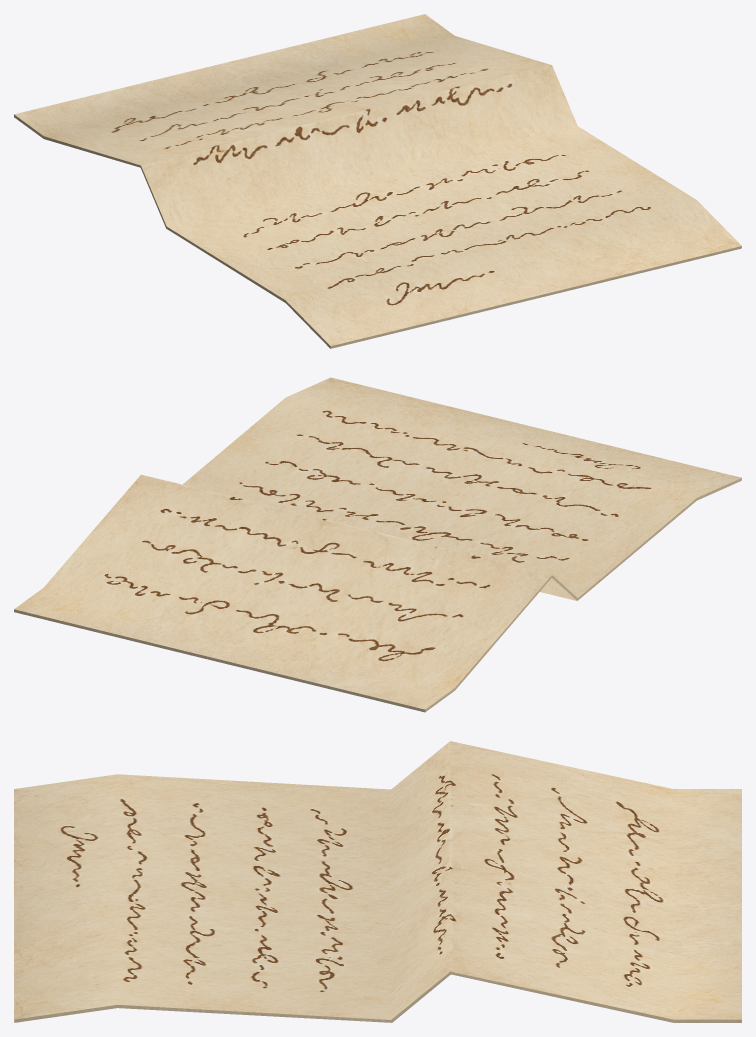
The model's file is carta.fbx.
3 views of the same model, one above another, from view 1: azimuth 30°, elevation 25°; view 2: azimuth 150°, elevation 25°; view 3: azimuth 270°, elevation 25° (orthographic). The views are drawn at different scales.
Parts seen in each view (by area): view 1: carta; view 2: carta; view 3: carta.
Boxes of the visible parts, bbox=[...] form: carta: bbox=[14, 14, 741, 348]; carta: bbox=[14, 377, 741, 712]; carta: bbox=[14, 741, 741, 1022].
Size of the model in its own units: 0.15 by 0.0157 by 0.2002.
